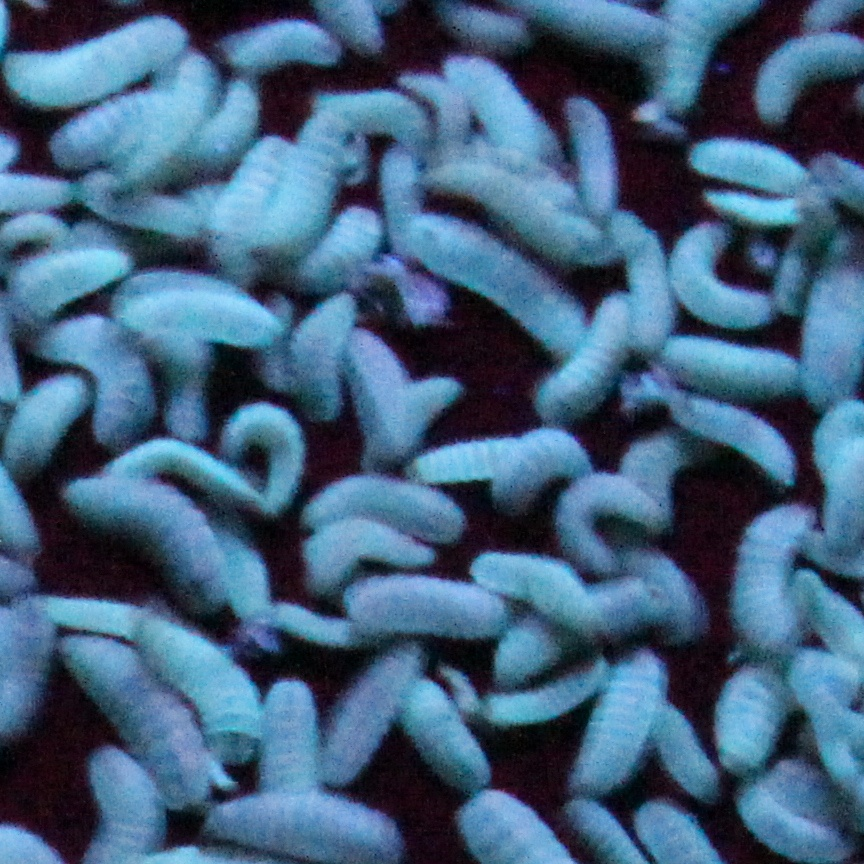larve: (396, 220, 596, 356), (61, 632, 208, 803), (60, 477, 225, 613), (432, 160, 605, 263), (136, 617, 256, 765), (3, 17, 186, 108), (524, 291, 637, 420), (36, 324, 161, 439), (320, 641, 424, 779), (443, 51, 563, 163), (115, 55, 215, 189), (477, 548, 617, 643), (570, 650, 661, 791), (124, 270, 291, 346), (670, 217, 779, 325), (399, 674, 499, 791), (667, 394, 794, 484), (305, 477, 475, 544), (729, 506, 805, 648), (303, 520, 439, 598), (222, 400, 313, 513), (558, 474, 665, 570), (341, 327, 424, 448), (491, 425, 598, 512), (658, 334, 801, 398), (349, 581, 513, 636), (763, 32, 861, 122), (217, 134, 298, 241), (310, 91, 436, 156), (13, 250, 136, 315), (715, 660, 784, 772), (565, 91, 624, 220), (6, 377, 86, 468), (259, 682, 318, 789), (698, 139, 810, 191), (299, 212, 377, 284), (215, 25, 341, 65)
